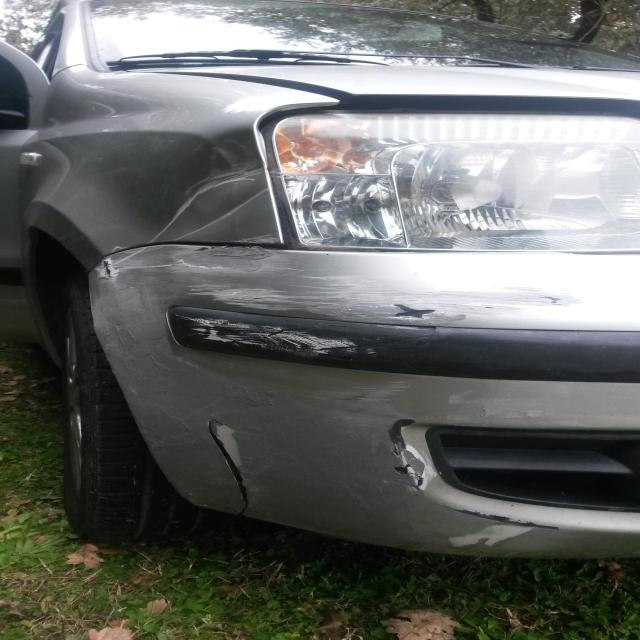dent: (87, 118, 284, 241)
scratch: (83, 158, 582, 553)
tear: (205, 419, 254, 517)
